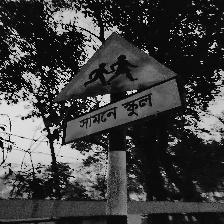School-in-front: (53, 32, 186, 145)
